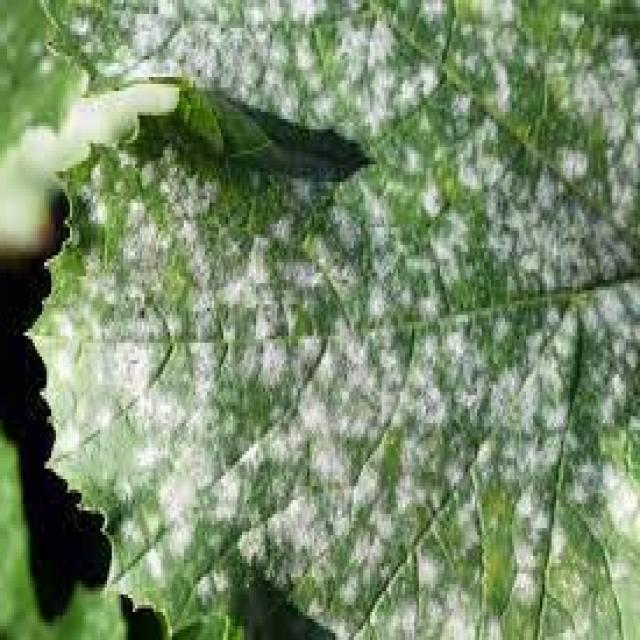Bad: (46, 21, 625, 590)
